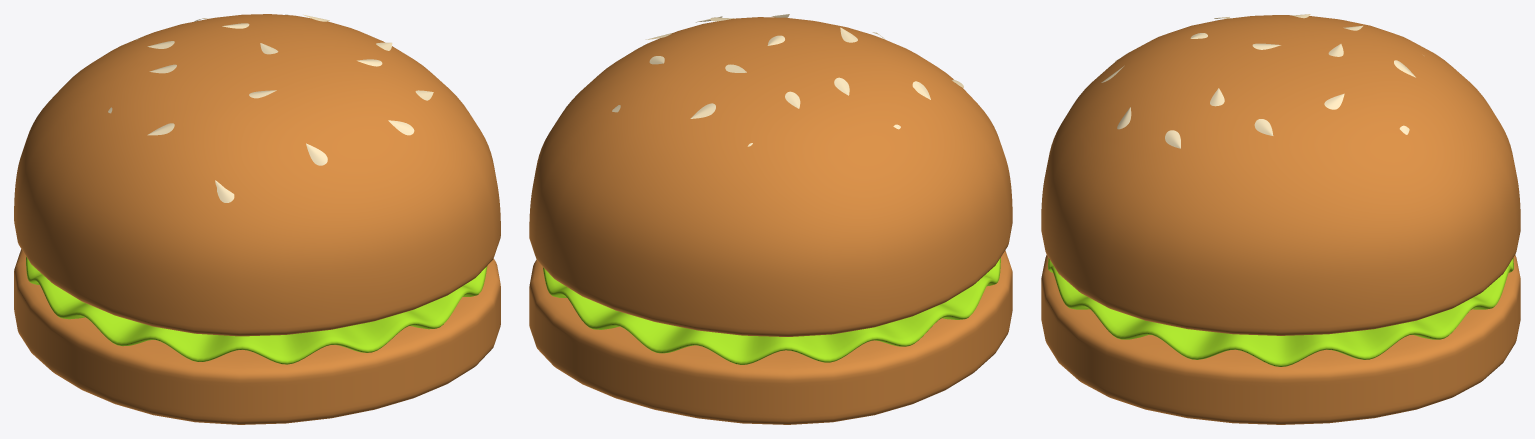
File: burger lettuce.glb
The picture shows the model from 3 angles, left to right: view 1: azimuth 30°, elevation 25°; view 2: azimuth 150°, elevation 25°; view 3: azimuth 270°, elevation 25°; orthographic projection.
Parts seen in each view (by area): view 1: burger lettuce.002; view 2: burger lettuce.002; view 3: burger lettuce.002.
Boxes of the visible parts, <box> form: burger lettuce.002: <box>14,14,500,424</box>; burger lettuce.002: <box>529,14,1012,424</box>; burger lettuce.002: <box>1041,14,1520,424</box>.
Size of the model in its own units: 1.18 by 0.7884 by 1.18.
